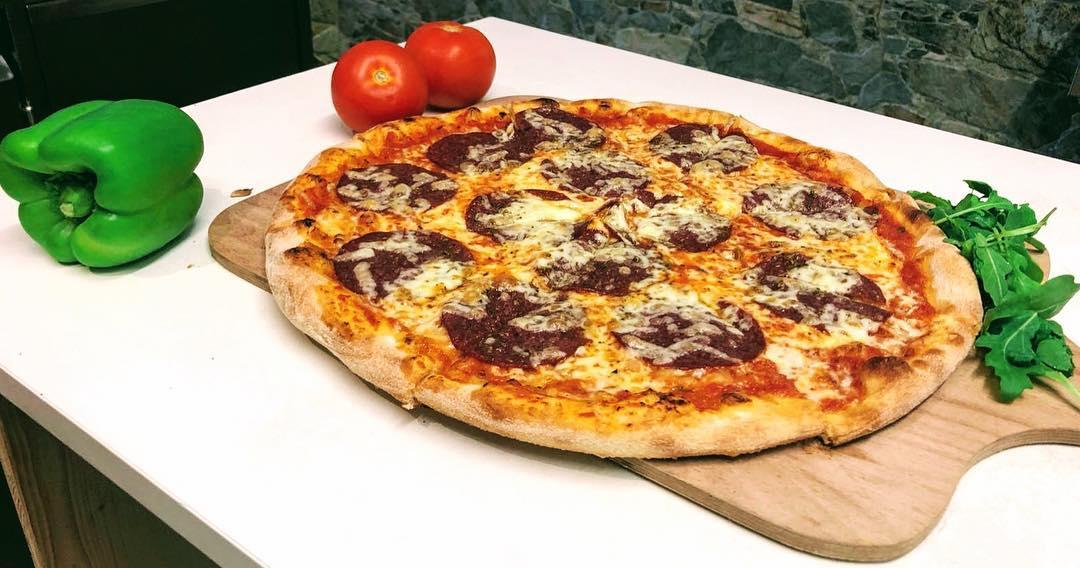Pepperoni: (751, 254, 890, 332), (448, 289, 586, 366), (612, 300, 766, 366), (338, 233, 473, 302), (742, 181, 878, 234), (468, 188, 579, 241), (338, 166, 455, 212), (542, 246, 659, 290), (636, 196, 731, 247), (654, 124, 759, 168), (542, 154, 651, 195), (516, 108, 606, 149), (431, 135, 529, 171)
Pizza: (268, 96, 986, 464)
